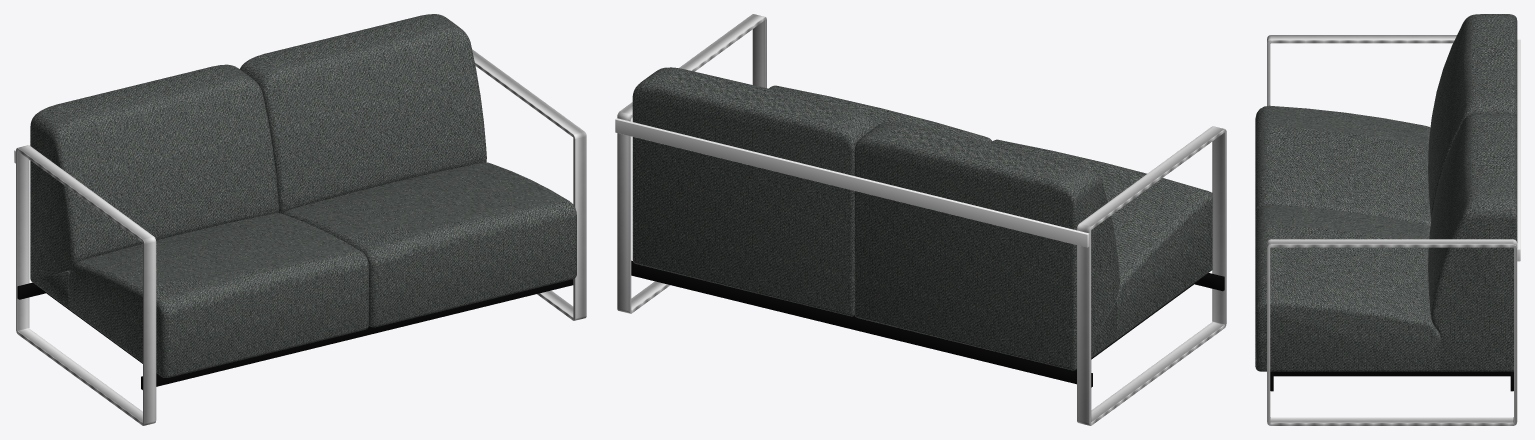
Rendered from outdoor-sofa.glb.
3 views of the same model, side by side, from view 1: azimuth 30°, elevation 25°; view 2: azimuth 150°, elevation 25°; view 3: azimuth 270°, elevation 25° (orthographic). The views are drawn at different scales.
Visible parts, largest first — view 1: Back 1, Back 2, Seat 1, Seat 2, Armrests, Bottomfram; view 2: Back 1, Back 2, Armrests, Seat 1, Bottomfram, Seat 2; view 3: Seat 2, Back 2, Seat 1, Back 1, Armrests, Bottomfram.
Part boxes in pixels (x1=…): Back 1: x1=30, y1=64, x2=278, y2=308; Back 2: x1=240, y1=14, x2=486, y2=213; Seat 1: x1=69, y1=213, x2=368, y2=377; Seat 2: x1=282, y1=162, x2=576, y2=327; Armrests: x1=14, y1=49, x2=586, y2=425; Bottomfram: x1=17, y1=279, x2=573, y2=389; Back 1: x1=854, y1=121, x2=1119, y2=370; Back 2: x1=632, y1=67, x2=878, y2=316; Armrests: x1=615, y1=14, x2=1226, y2=425; Seat 1: x1=991, y1=139, x2=1212, y2=339; Bottomfram: x1=631, y1=260, x2=1224, y2=387; Seat 2: x1=769, y1=85, x2=991, y2=142; Seat 2: x1=1255, y1=204, x2=1440, y2=371; Back 2: x1=1428, y1=112, x2=1517, y2=371; Seat 1: x1=1255, y1=105, x2=1431, y2=225; Back 1: x1=1428, y1=14, x2=1517, y2=219; Armrests: x1=1267, y1=35, x2=1520, y2=425; Bottomfram: x1=1270, y1=371, x2=1513, y2=391.
Size of the model in its own units: 1.49 by 0.712 by 0.795.
Materials: 4 (2 with a texture image).
